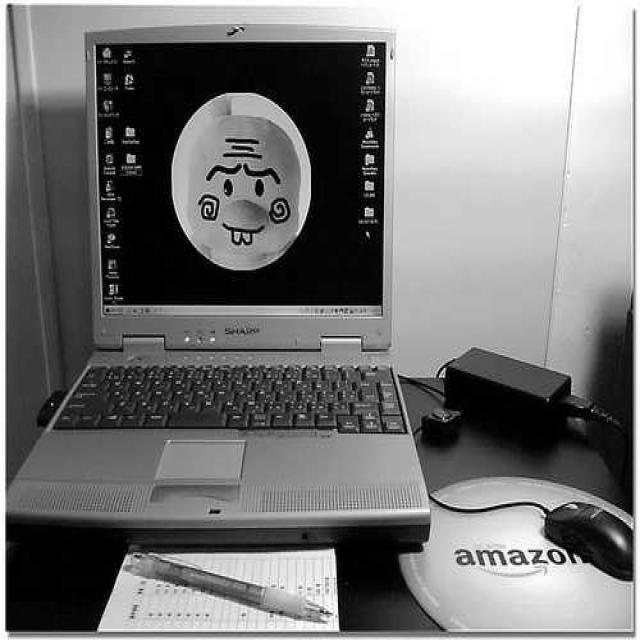laptop: (26, 21, 433, 550)
